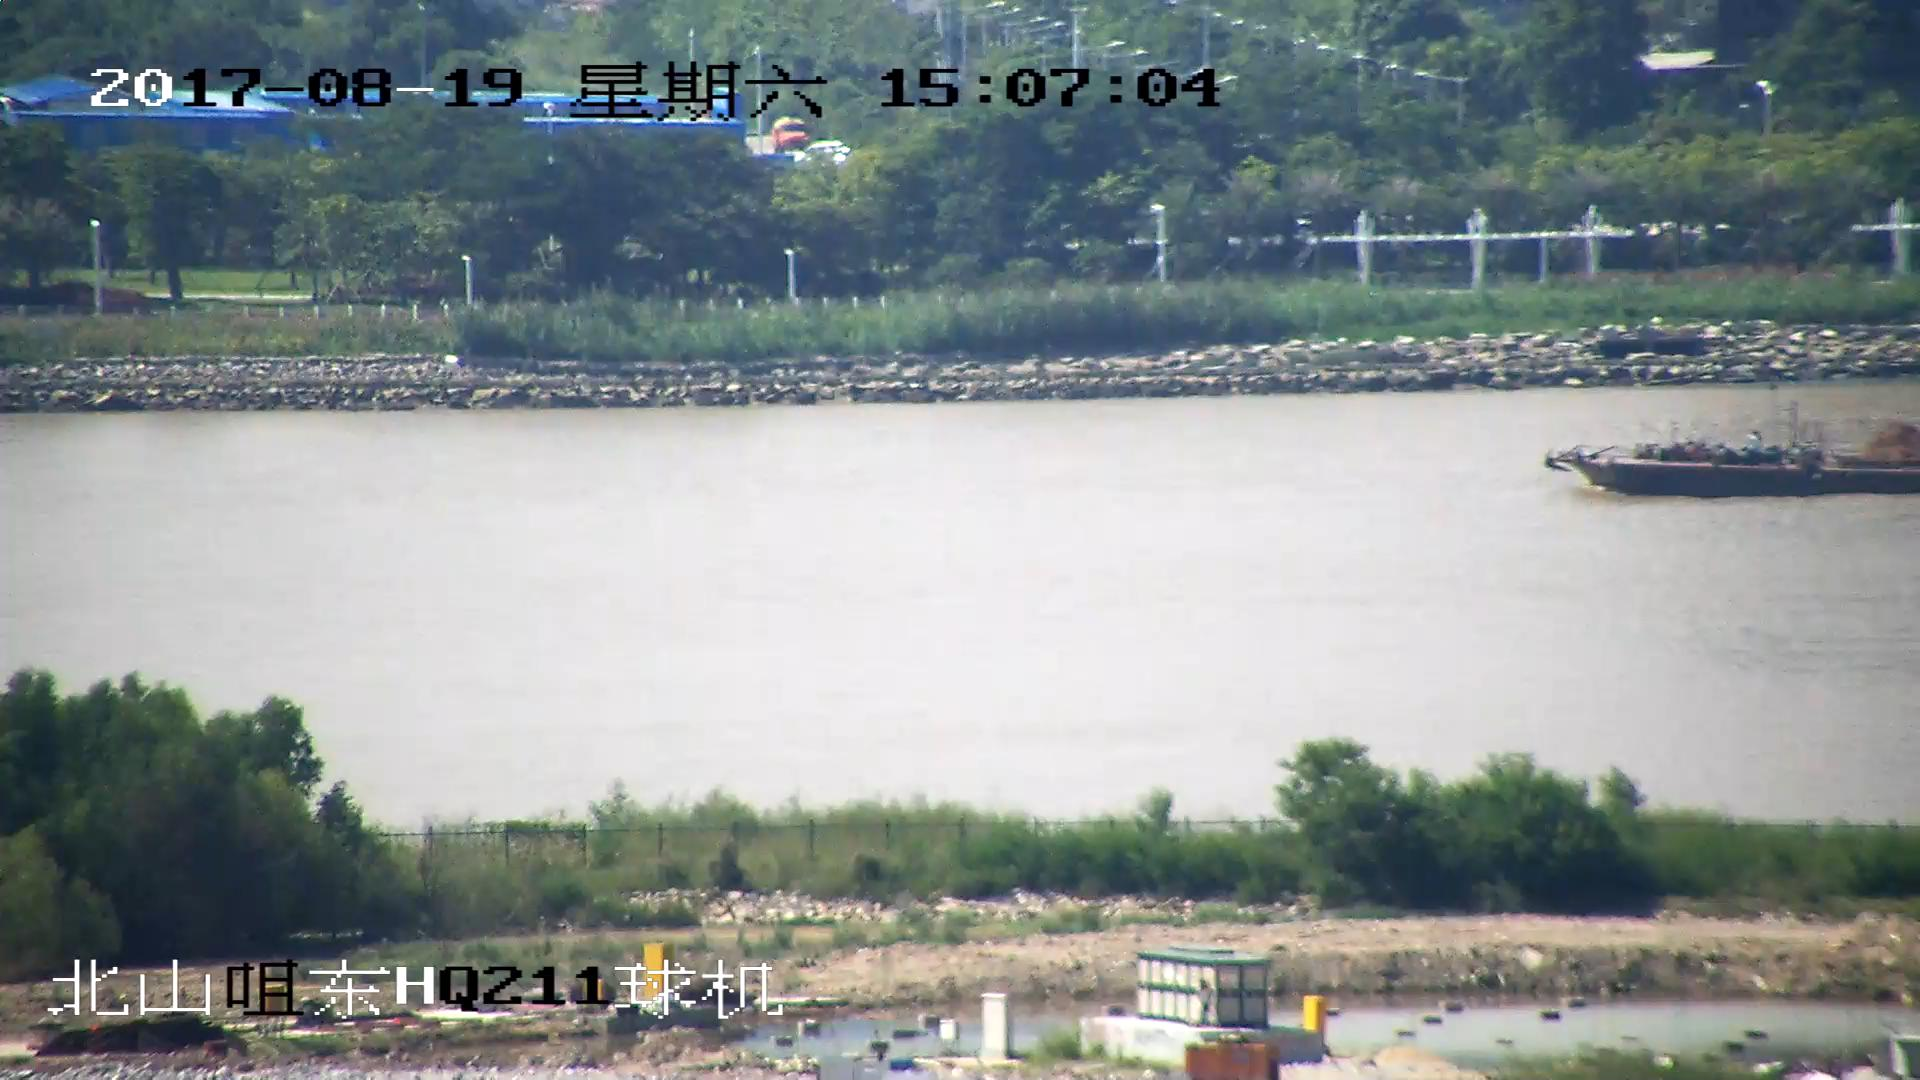ore carrier: (1546, 420, 1920, 502)
